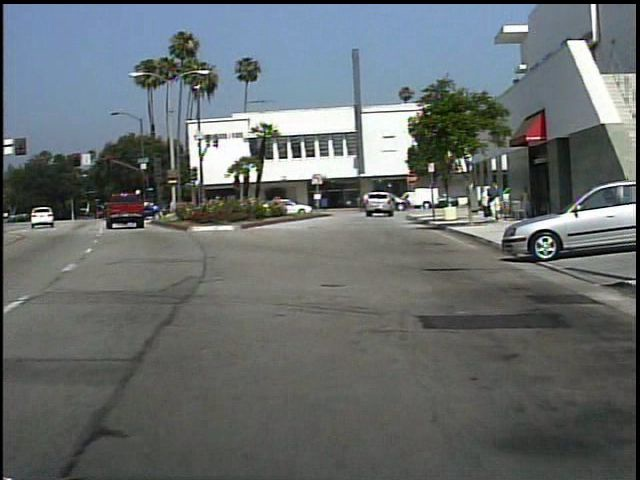person: (487, 182, 504, 224), (517, 184, 535, 220), (370, 191, 391, 219), (480, 184, 492, 218)
